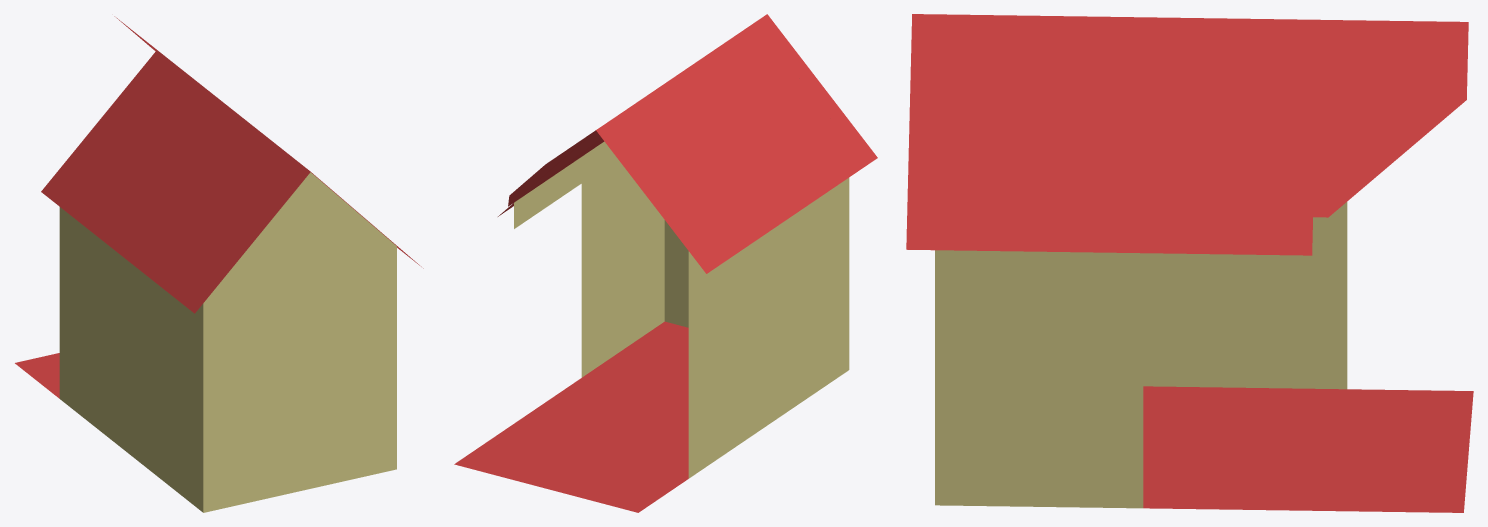
3 views of the same model, side by side, from view 1: azimuth 30°, elevation 25°; view 2: azimuth 150°, elevation 25°; view 3: azimuth 270°, elevation 25° (orthographic). The views are drawn at different scales.
Size of the model in its own units: 9.66 by 15.32 by 12.83.
